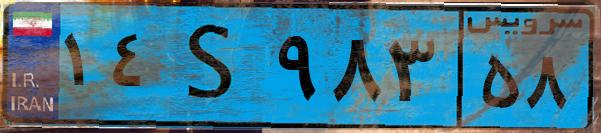1: (57, 26, 110, 100)
3: (385, 28, 445, 110)
4: (110, 28, 158, 98)
5: (475, 38, 525, 113)
8: (330, 28, 385, 110), (525, 38, 570, 115)
9: (270, 28, 330, 110)
S: (158, 12, 270, 120)
